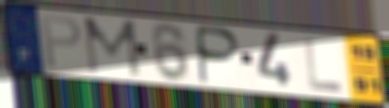4: (255, 30, 298, 93)
6: (149, 21, 191, 83)
L: (302, 36, 346, 94)
M: (81, 16, 143, 79)
P: (196, 24, 243, 86), (39, 14, 84, 71)
